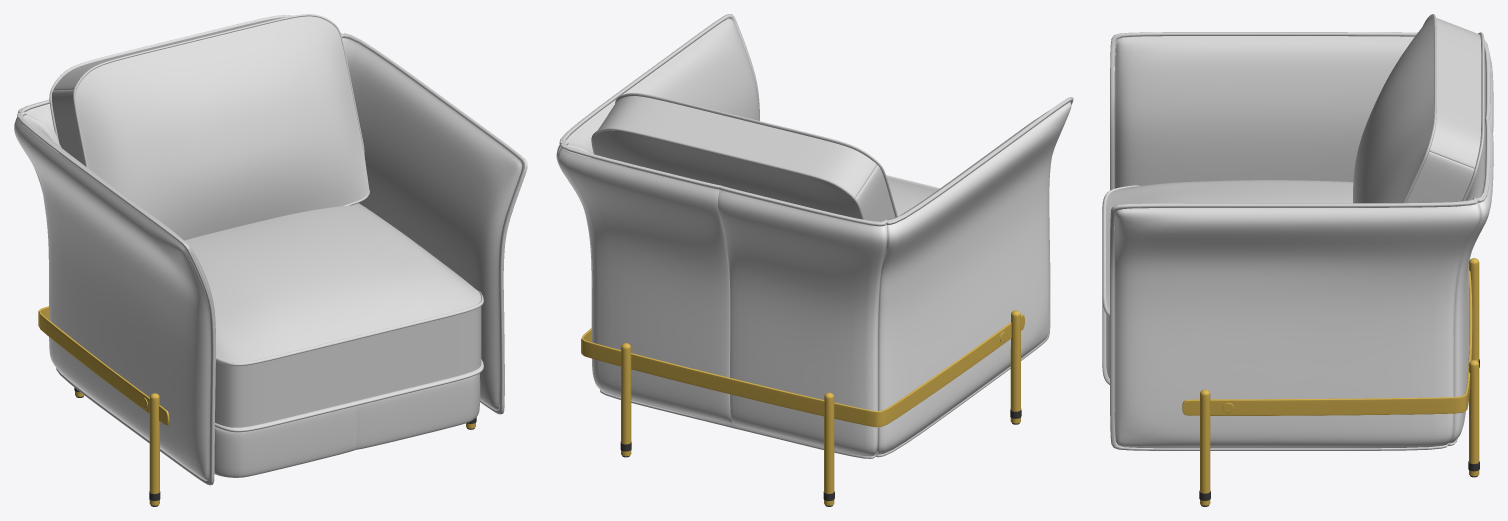
Rendered from SLN_Oasis_1_Seater.glb.
3 renders of one model, left to right at view 1: azimuth 30°, elevation 25°; view 2: azimuth 150°, elevation 25°; view 3: azimuth 270°, elevation 25°, orthographic. The views are drawn at different scales.
Parts seen in each view (by area): view 1: Oasis_1_Seater; view 2: Oasis_1_Seater; view 3: Oasis_1_Seater.
Part boxes in pixels (x1,y1,x2,y2): Oasis_1_Seater: [14, 14, 527, 506]; Oasis_1_Seater: [556, 14, 1073, 506]; Oasis_1_Seater: [1102, 14, 1493, 506].
Bounding box in the file's own units: 0.8855 × 0.84 × 0.8313.
